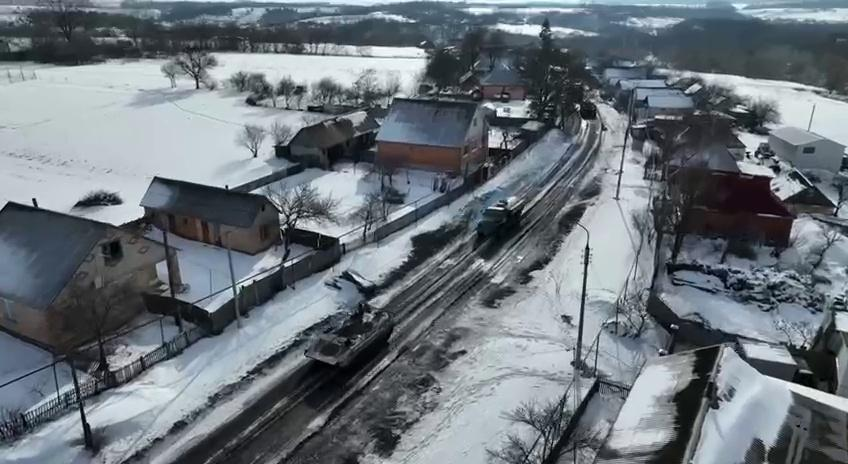tank: (304, 302, 397, 372)
truck: (476, 196, 526, 236), (580, 97, 602, 122)
